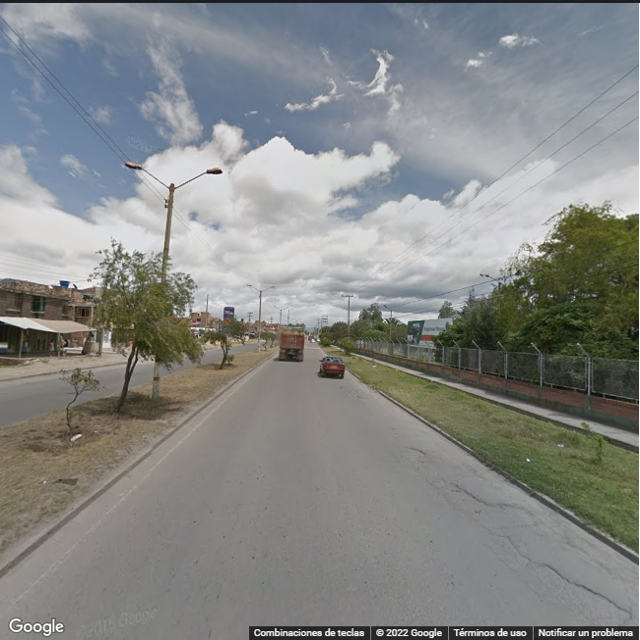D00: (494, 531, 630, 615), (506, 501, 632, 579), (453, 481, 493, 505)
